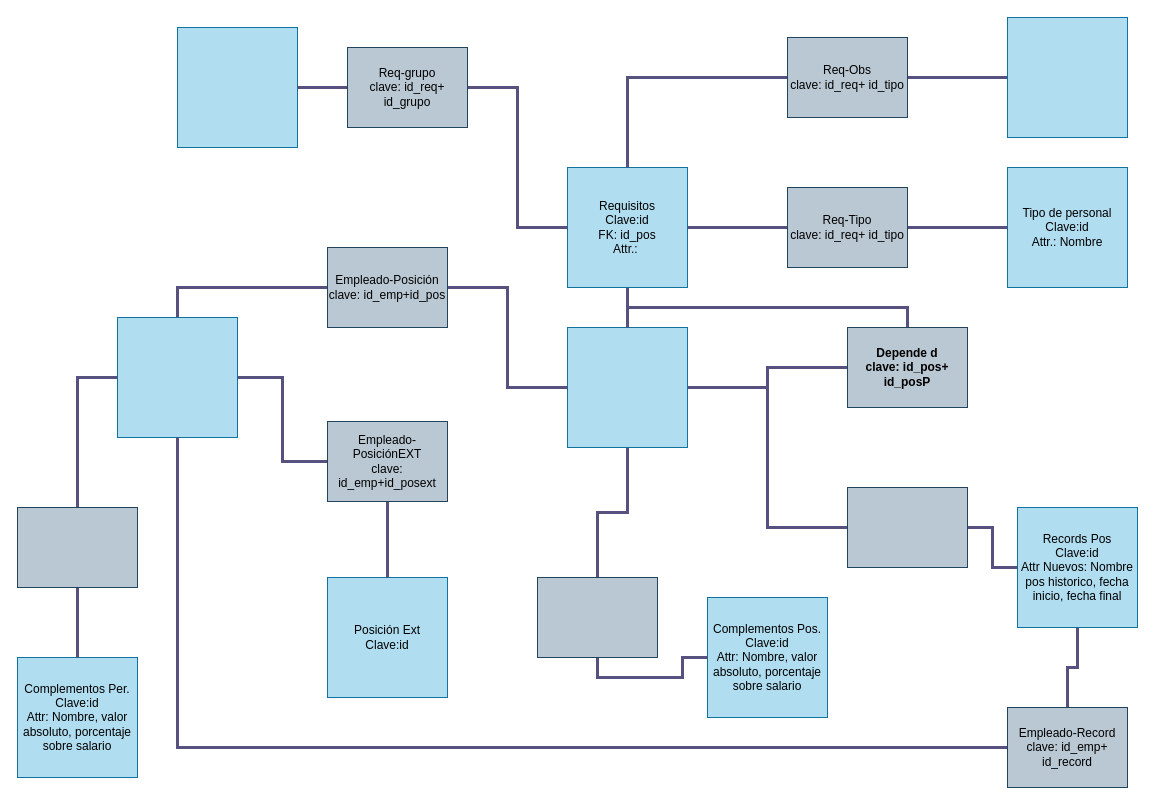
The diagram is 1155 pixels wide and 805 high, and some of its shapes have lost their labels. Here are the shapes that lost their labels. From the top down, the centre of each, then its label:
At pixel 237 87: "Grupo adscrito Clave:id Attr.: Nombre".
At pixel 1067 77: "Obs/req Clave:id Attr.: Tag, Descripción".
At pixel 177 377: "Empleados Clave:id Attr Nuevos: Grupo adscrito, tipo de personal".
At pixel 627 387: "Posición Clave:id FK: id_req Attr. Nuevos: id_rpt, nombre_rpt".
At pixel 77 547: "Empleado-CompPer clave: id_emp+ id_complemento".
At pixel 907 527: "Posición-Record clave: id_pos+ id_record".
At pixel 597 617: "Posición-CompPos clave: id_emp+ id_complemento".
